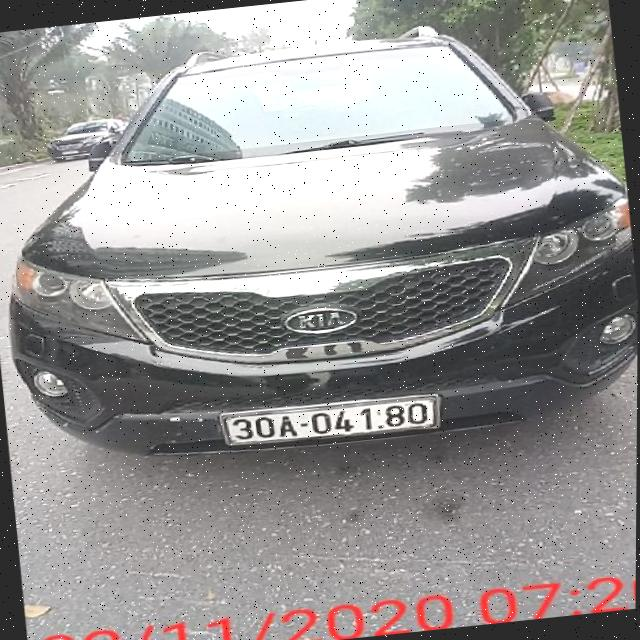car: (0, 0, 640, 504), (44, 108, 130, 167)
plate: (214, 384, 450, 459)
